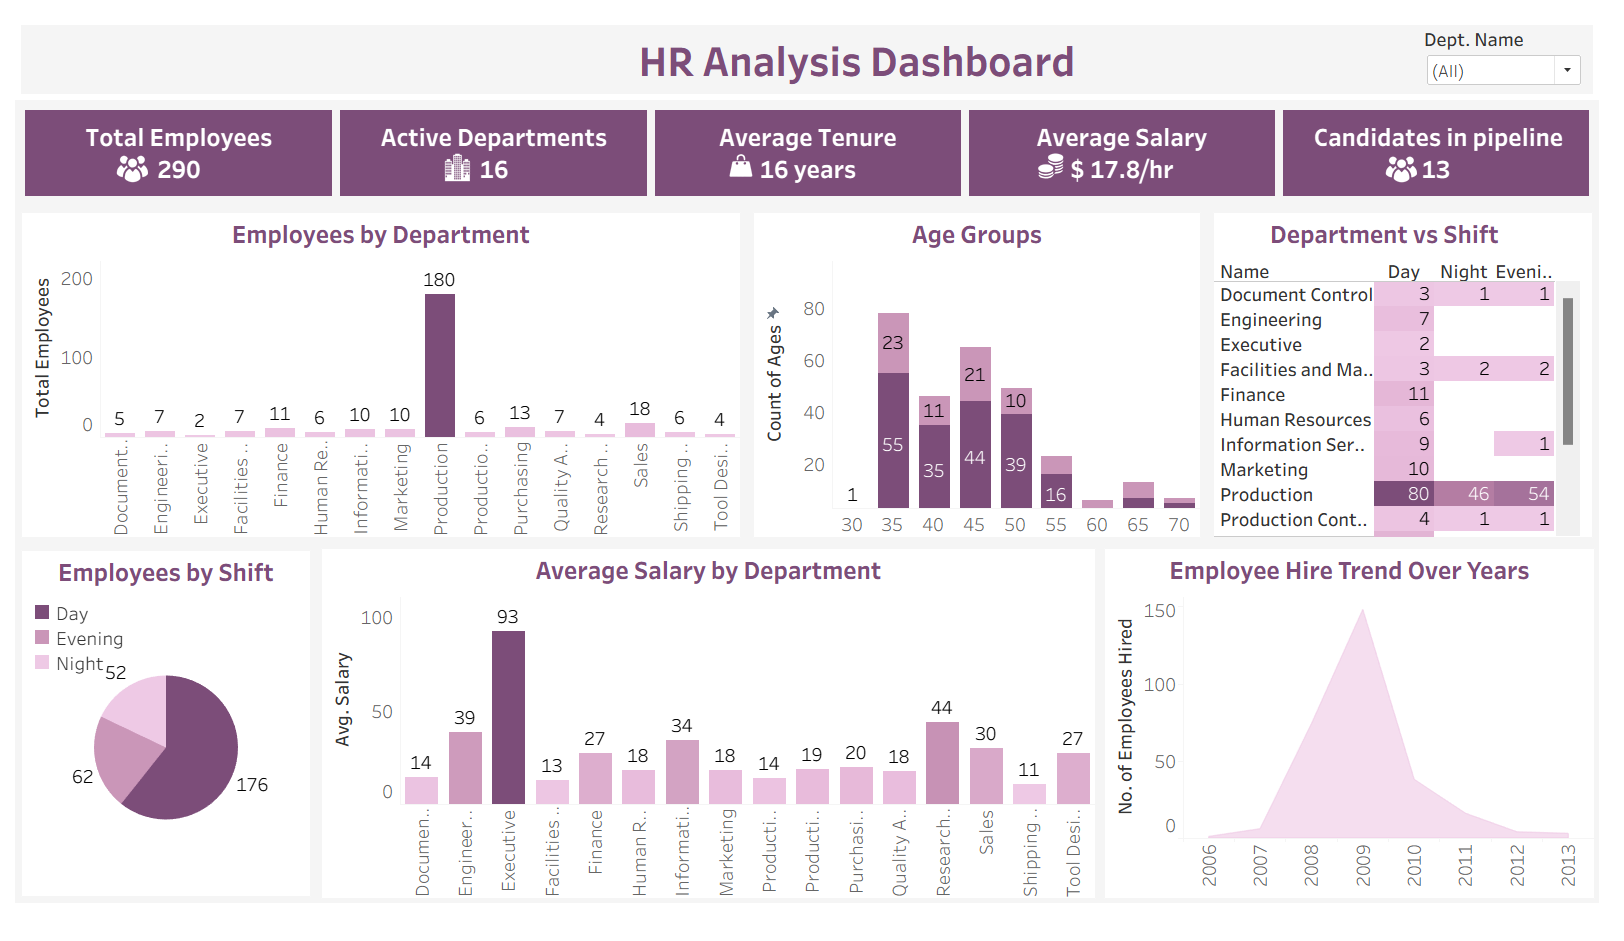

This screenshot's page, from the dashboard's own definition file:
{"tool":"tableau","page":{"name":"Dashboard 1","canvas":[1600,900],"ordinal":0},"visuals":[{"type":"text","box":[8,8,1584,81]},{"type":"filter","title":"Employees by Department","param":"[federated.1abbqyg064b4tf19pjvqi0a8aowv].[none:Name:nk]","box":[1417,15,160,65]},{"type":"worksheet","title":"Total Employees","mark":"Automatic","box":[14,95,315,94]},{"type":"worksheet","title":"Active Departments","mark":"Automatic","box":[329,95,315,94]},{"type":"worksheet","title":"Average Tenure","mark":"Automatic","box":[644,95,314,94]},{"type":"worksheet","title":"Average salary","mark":"Automatic","box":[958,95,314,94]},{"type":"worksheet","title":"job candidates in pipeline","mark":"Automatic","box":[1272,95,314,94]},{"type":"image","param":"C:/Users/vshivani/Desktop/shivani/Tableau/3. HR analysis(ssms)/images/coins.png","box":[1021,140,44,47]},{"type":"image","param":"C:/Users/vshivani/Desktop/shivani/Tableau/3. HR analysis(ssms)/images/person ico","box":[109,141,36,33]},{"type":"image","param":"C:/Users/vshivani/Desktop/shivani/Tableau/3. HR analysis(ssms)/images/department","box":[436,141,44,30]},{"type":"image","param":"C:/Users/vshivani/Desktop/shivani/Tableau/3. HR analysis(ssms)/images/bag.png","box":[713,141,41,34]},{"type":"image","param":"C:/Users/vshivani/Desktop/shivani/Tableau/3. HR analysis(ssms)/images/person ico","box":[1378,142,32,36]},{"type":"worksheet","title":"Employees by Department","mark":"Automatic","rows":["Calculation_1618762650094727176"],"cols":["Name"],"box":[8,195,732,338]},{"type":"worksheet","title":"Age Groups","mark":"Bar","rows":["Calculation_770397070610350081"],"cols":["ages (bin)"],"box":[740,195,459.9,338]},{"type":"worksheet","title":"Department vs Shift","mark":"Square","rows":["Name"],"cols":["Name (HumanResources.Shift)"],"box":[1199.9,195,392,338]},{"type":"worksheet","title":"Employees by Shift","mark":"Pie","box":[8,533,302,359]},{"type":"worksheet","title":"Average Salary by Department","mark":"Bar","rows":["Calculation_1618762650097668113"],"cols":["Name"],"box":[310,533,783,359]},{"type":"worksheet","title":"Employee Hire Trend Over Years","mark":"Area","rows":["BusinessEntityID (HumanResources.Employee)"],"cols":["HireDate"],"box":[1093,533,499,359]},{"type":"legend","title":"Employees by Shift","param":"[federated.1abbqyg064b4tf19pjvqi0a8aowv].[none:Name (HumanResources.Shift):nk]","box":[23,589,140,101]}]}

Visuals, with their boxes in screenshot pixels (x1, y1, x2, y2), scaled from the page's 1600x900 canvas onto the 1624x941 screenshot:
text: select_region(8, 8, 1616, 93)
"Employees by Department" filter: select_region(1438, 16, 1601, 84)
"Total Employees" worksheet: select_region(14, 99, 334, 198)
"Active Departments" worksheet: select_region(334, 99, 654, 198)
"Average Tenure" worksheet: select_region(654, 99, 972, 198)
"Average salary" worksheet: select_region(972, 99, 1291, 198)
"job candidates in pipeline" worksheet: select_region(1291, 99, 1610, 198)
image: select_region(1036, 146, 1081, 196)
image: select_region(111, 147, 147, 182)
image: select_region(443, 147, 487, 179)
image: select_region(724, 147, 765, 183)
image: select_region(1399, 148, 1431, 186)
"Employees by Department" worksheet: select_region(8, 204, 751, 557)
"Age Groups" worksheet (Bar marks): select_region(751, 204, 1218, 557)
"Department vs Shift" worksheet (Square marks): select_region(1218, 204, 1616, 557)
"Employees by Shift" worksheet (Pie marks): select_region(8, 557, 315, 933)
"Average Salary by Department" worksheet (Bar marks): select_region(315, 557, 1109, 933)
"Employee Hire Trend Over Years" worksheet (Area marks): select_region(1109, 557, 1616, 933)
"Employees by Shift" legend: select_region(23, 616, 165, 721)
